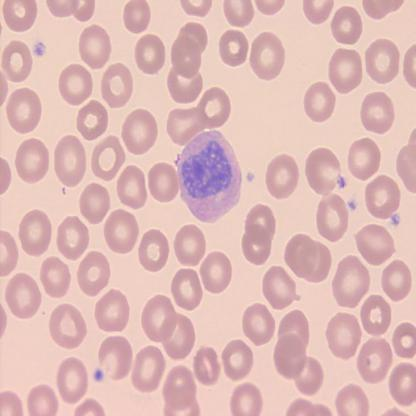Metamyelocyte: (177, 126, 244, 223)
